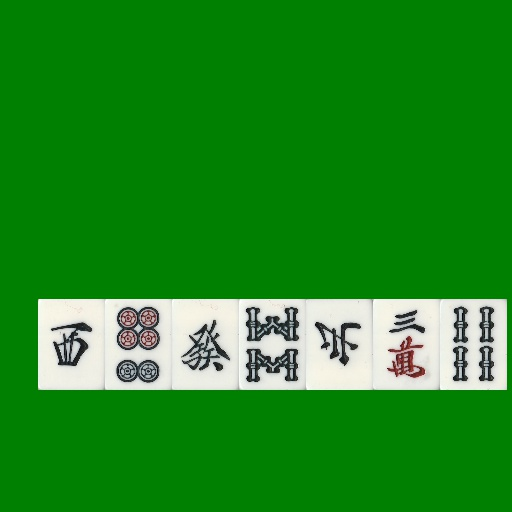3m: (373, 299, 440, 390)
4s: (440, 299, 507, 390)
6p: (105, 299, 172, 390)
8s: (239, 299, 306, 390)
hatsu: (172, 299, 239, 390)
north: (306, 299, 373, 390)
west: (38, 299, 105, 390)
